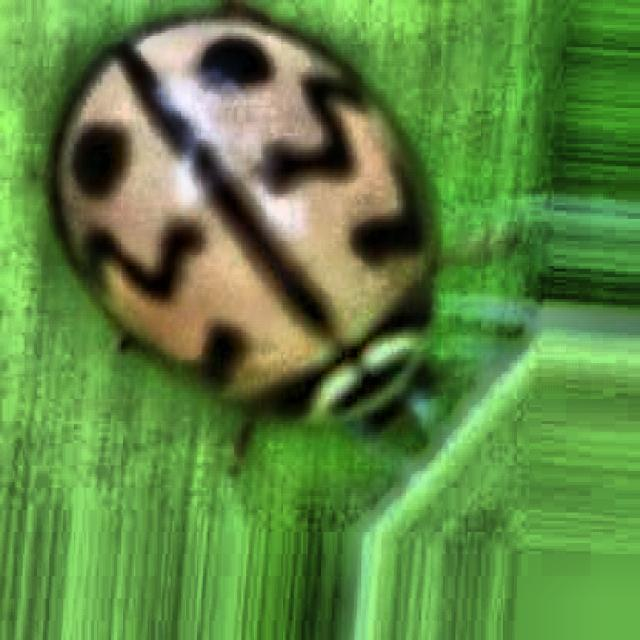Asian-Lady-beetle: (41, 3, 489, 544)
